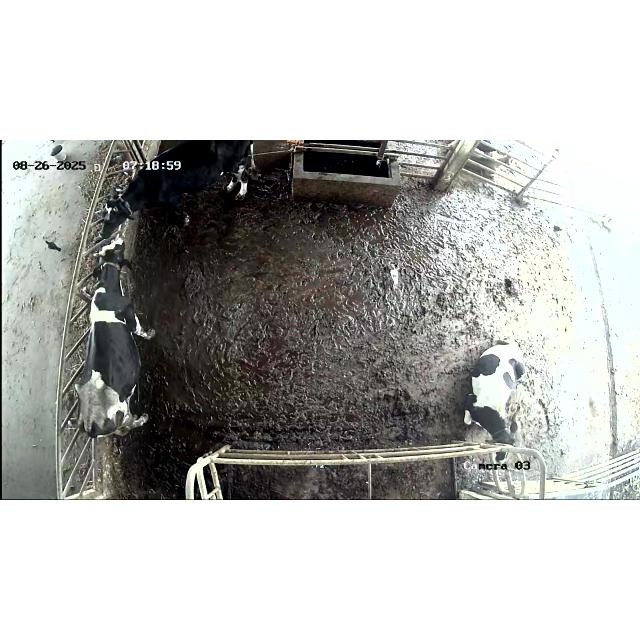stand: (67, 240, 161, 450), (98, 141, 268, 239)
